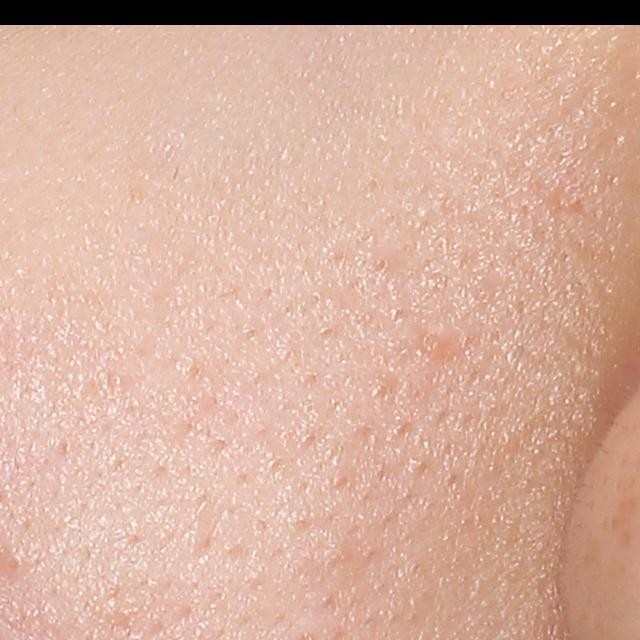comedo: (416, 324, 453, 365), (2, 550, 24, 575)
